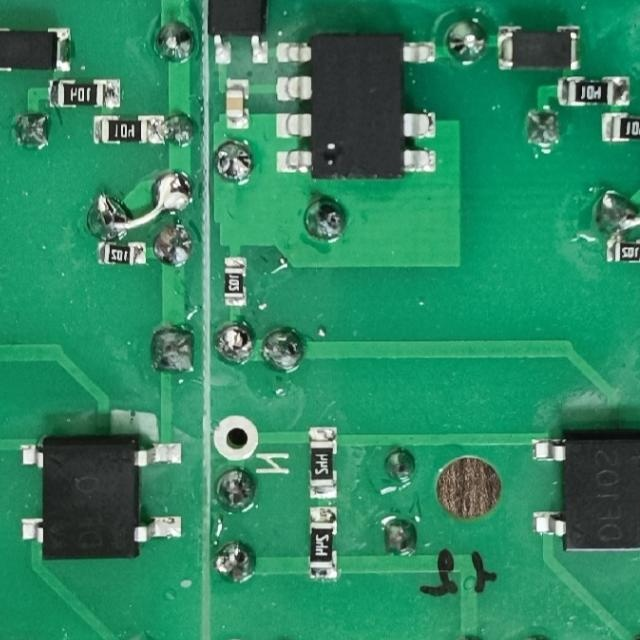chip-capacitor: (224, 77, 248, 131)
chip-resistor: (42, 77, 122, 110), (305, 504, 339, 581), (305, 423, 338, 500), (89, 114, 164, 147), (554, 76, 629, 108), (94, 240, 147, 269), (220, 255, 248, 309), (598, 111, 640, 142), (603, 237, 640, 265)
diode: (495, 23, 581, 73), (0, 26, 71, 74)
ic: (272, 32, 436, 180), (13, 433, 185, 564), (528, 432, 640, 556), (205, 0, 268, 66)
